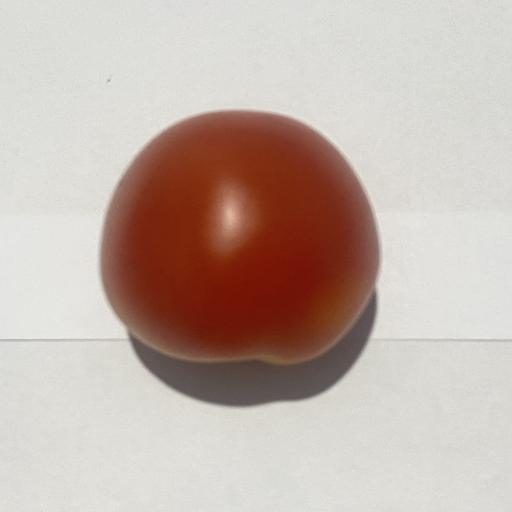ripe: (101, 111, 379, 364)
